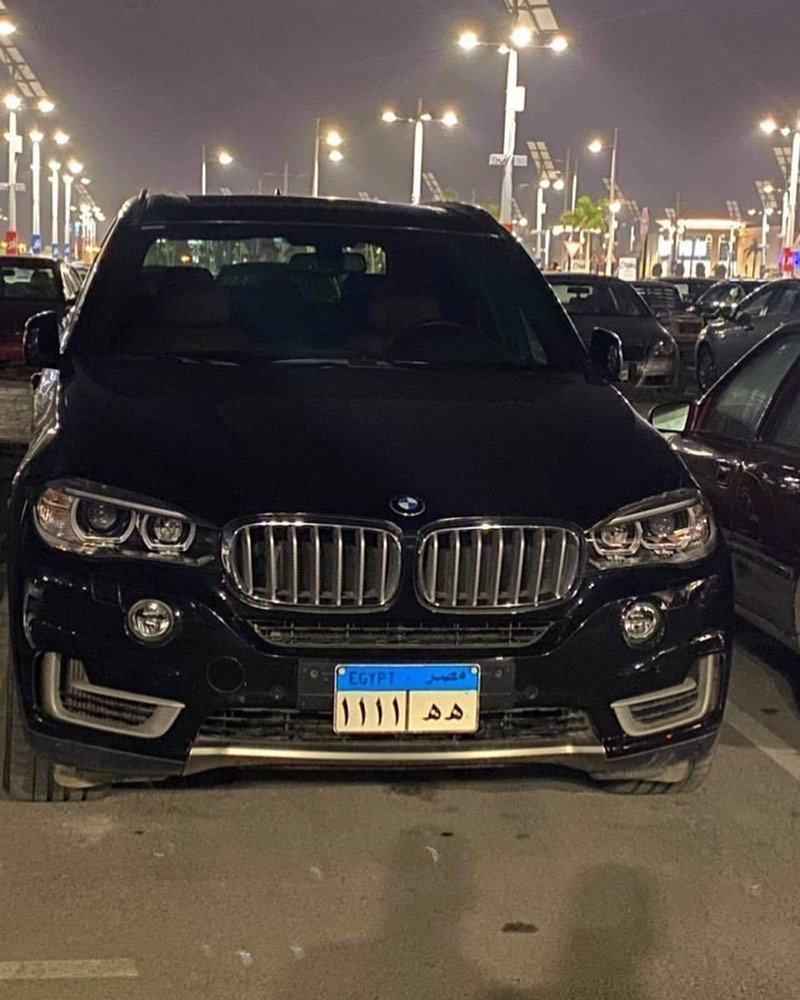carpl: (335, 666, 478, 735)
